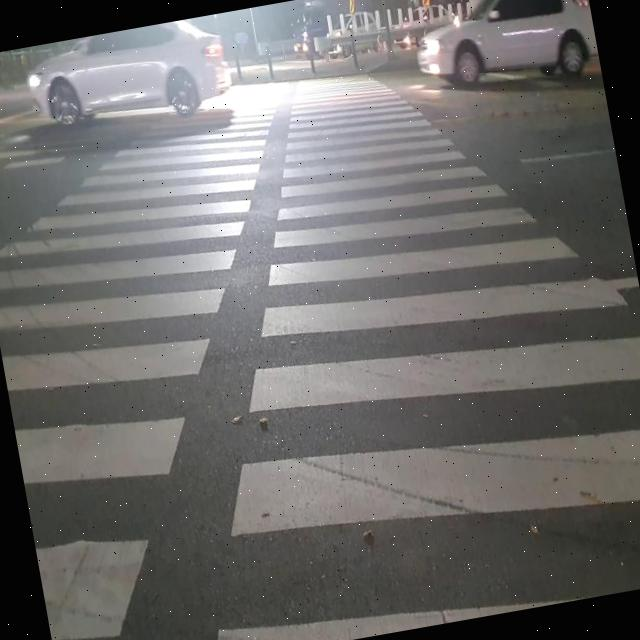crosswalk: (0, 70, 640, 640)
